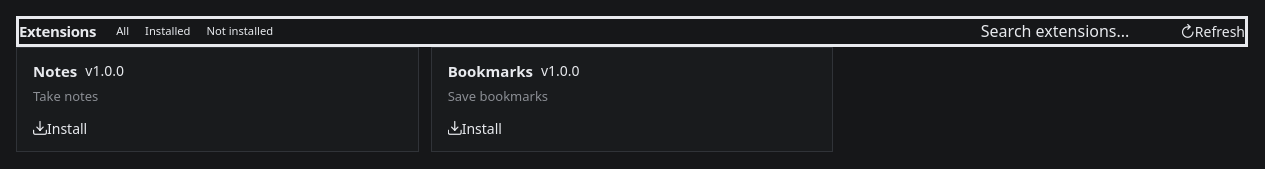
ExtensionsView › search filters extensions
In the field with placeholder "Search extensions...": {"x": 1077, "y": 31} [981,20,1173,42], type "Notes"
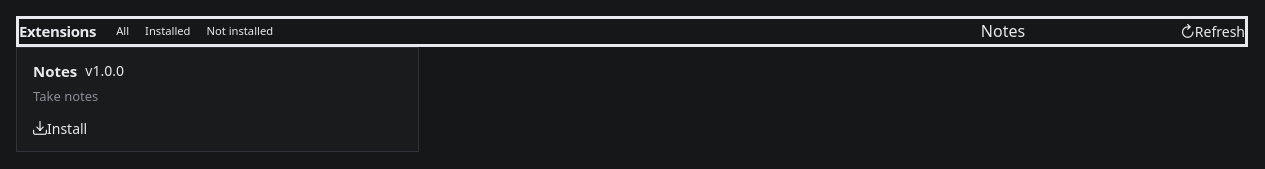
expect the text "Notes" is shown: met, box [33,60,77,82]
expect the text "Bookmarks" is gone: met
